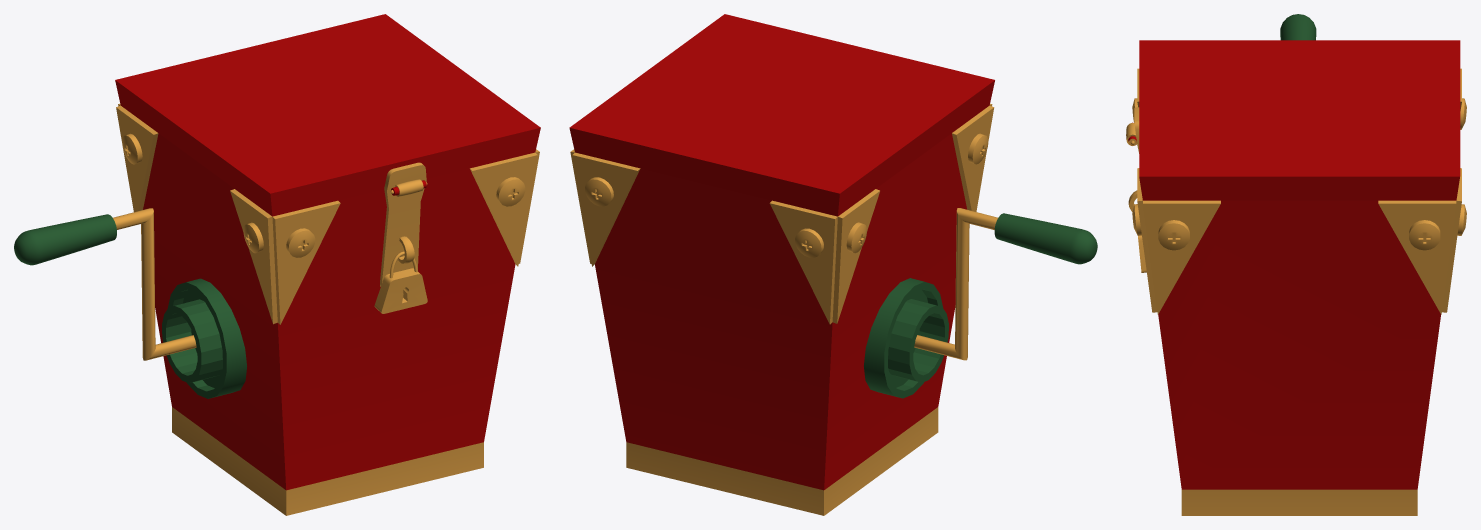
File: F_ClownBox.fbx
3 renders of one model, left to right at view 1: azimuth 30°, elevation 25°; view 2: azimuth 150°, elevation 25°; view 3: azimuth 270°, elevation 25°, orthographic. The views are drawn at different scales.
Parts seen in each view (by area): view 1: ClownBox; view 2: ClownBox; view 3: ClownBox.
Part boxes in pixels (<box>): ClownBox: <box>14,14,540,515</box>; ClownBox: <box>569,14,1097,515</box>; ClownBox: <box>1126,14,1466,515</box>.
Size of the model in its own units: 84.59 by 61.83 by 53.39.
